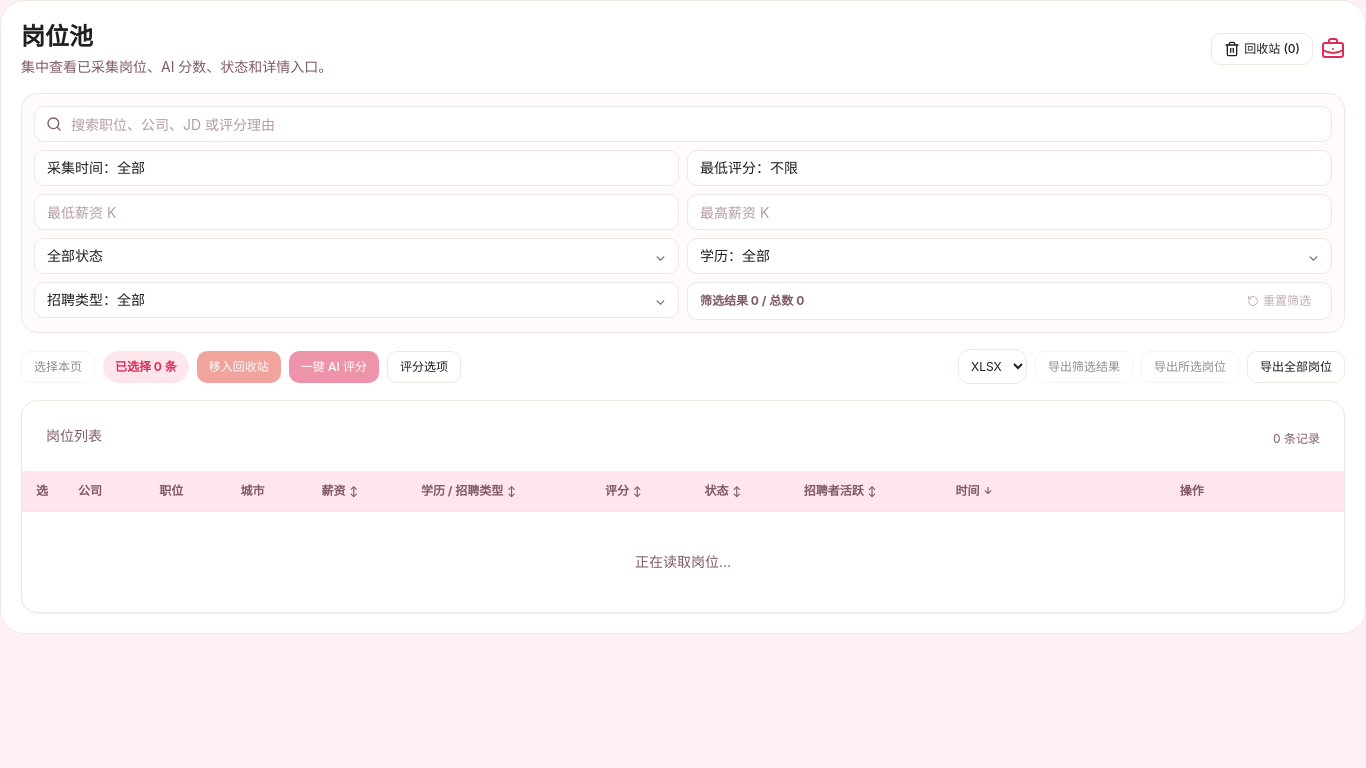
Test: DashboardPage scoring dialog confirm behaviour › keeps the scoring dialog open and shows the failure inside it when the scoring start fails
Click the button "评分选项": (424, 366) [387, 350, 461, 382]
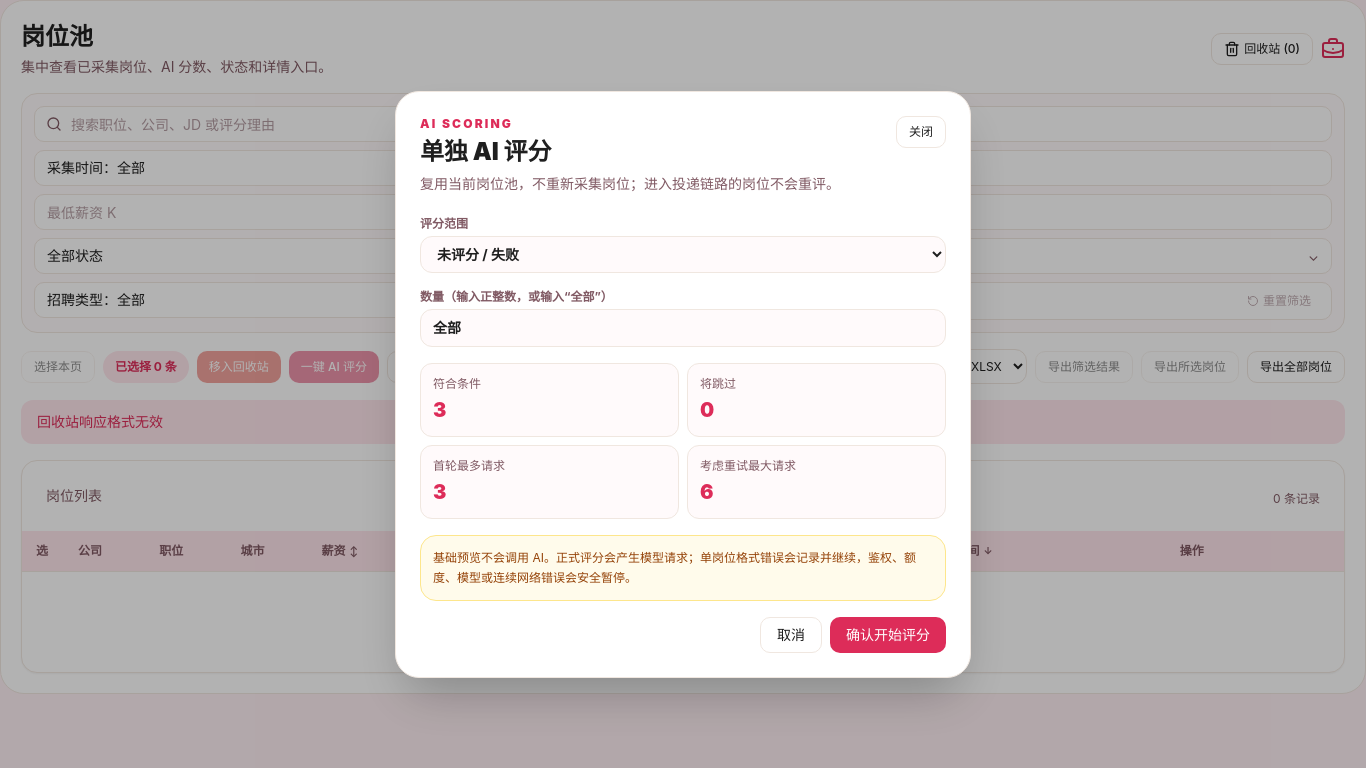
Now the text "符合条件" is shown, box [433, 376, 481, 390]
Click the button "确认开始评分": (888, 634) [830, 616, 946, 652]
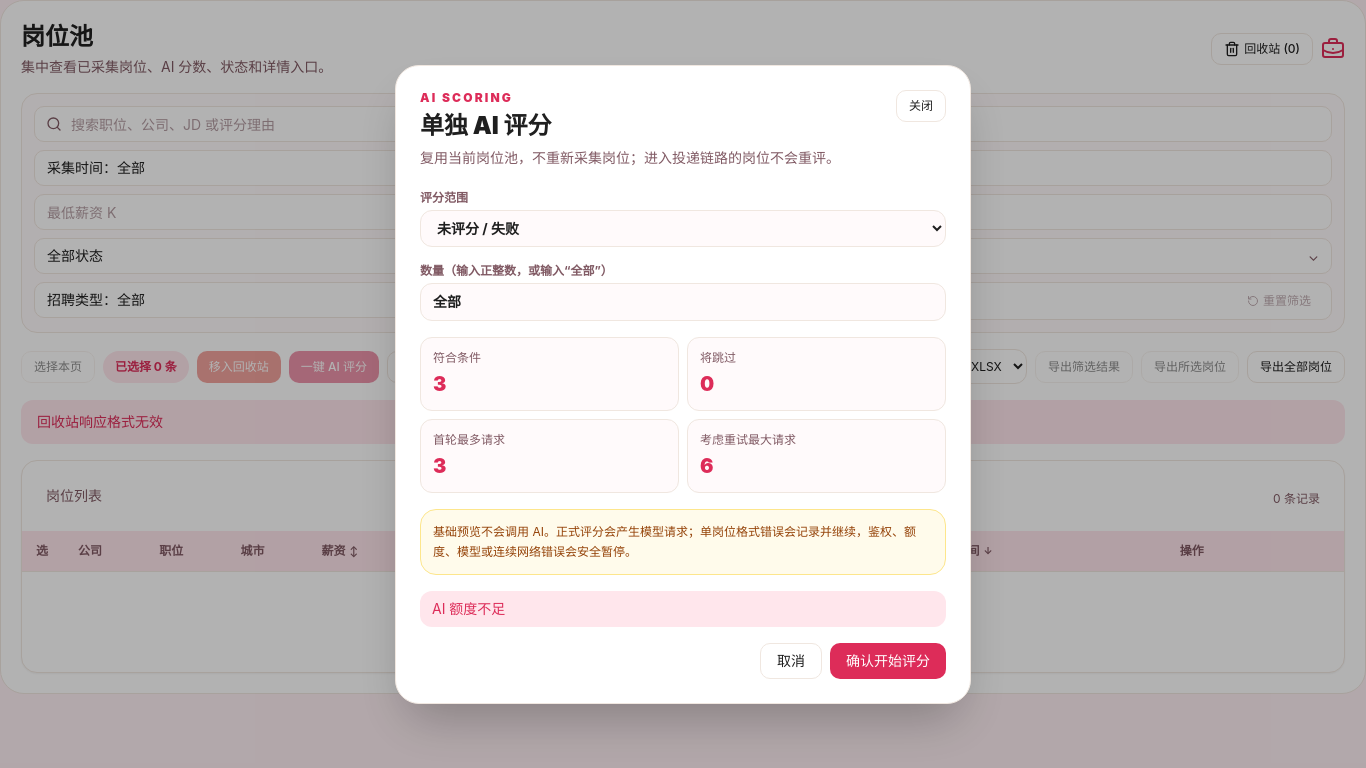
Now the button "确认开始评分" is shown, box [830, 642, 946, 678]
Now the text "AI 额度不足" is shown, box [420, 590, 946, 626]
